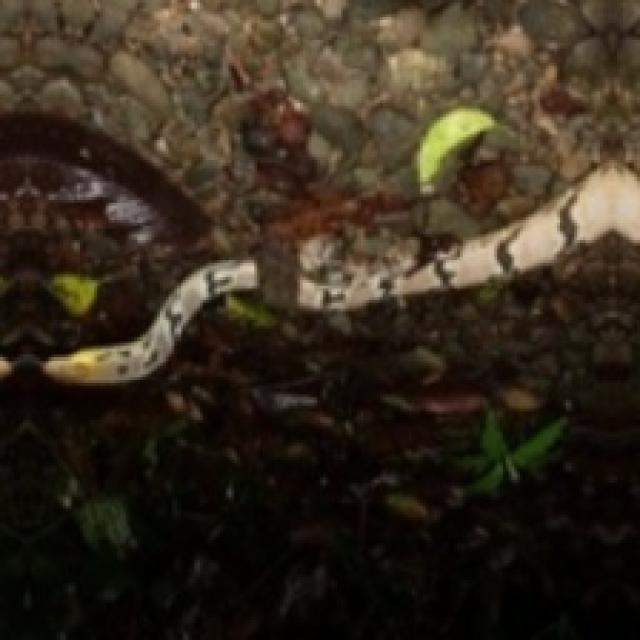dog-toothed cat snake: (44, 262, 258, 384)
